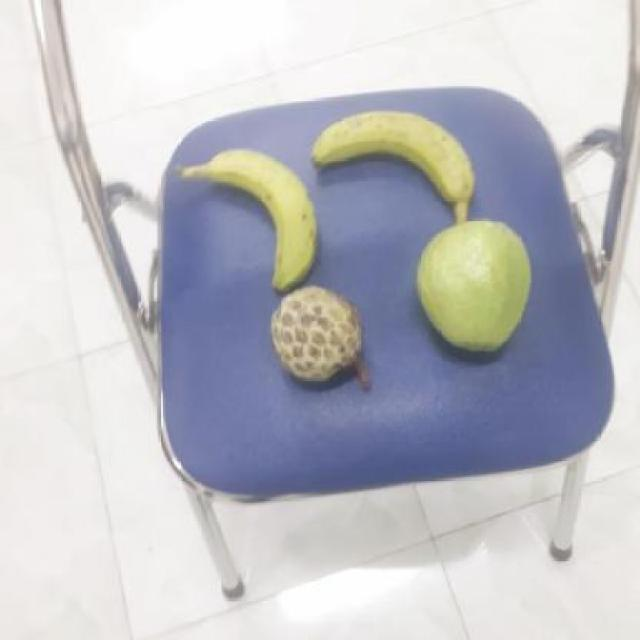banana: (316, 111, 485, 223), (199, 149, 327, 289)
guava: (418, 220, 538, 351)
sugar apple: (273, 287, 373, 385)
